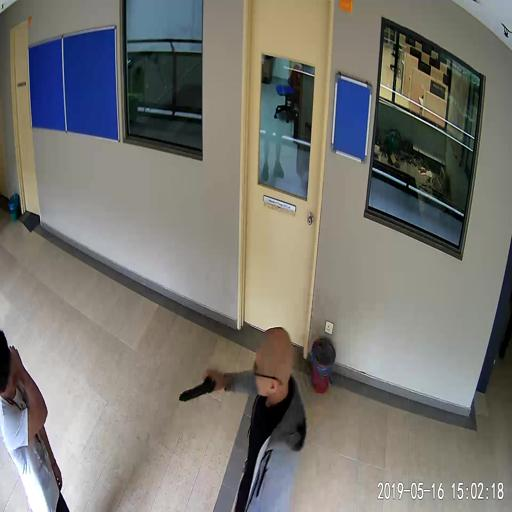pistol: (179, 366, 216, 401)
